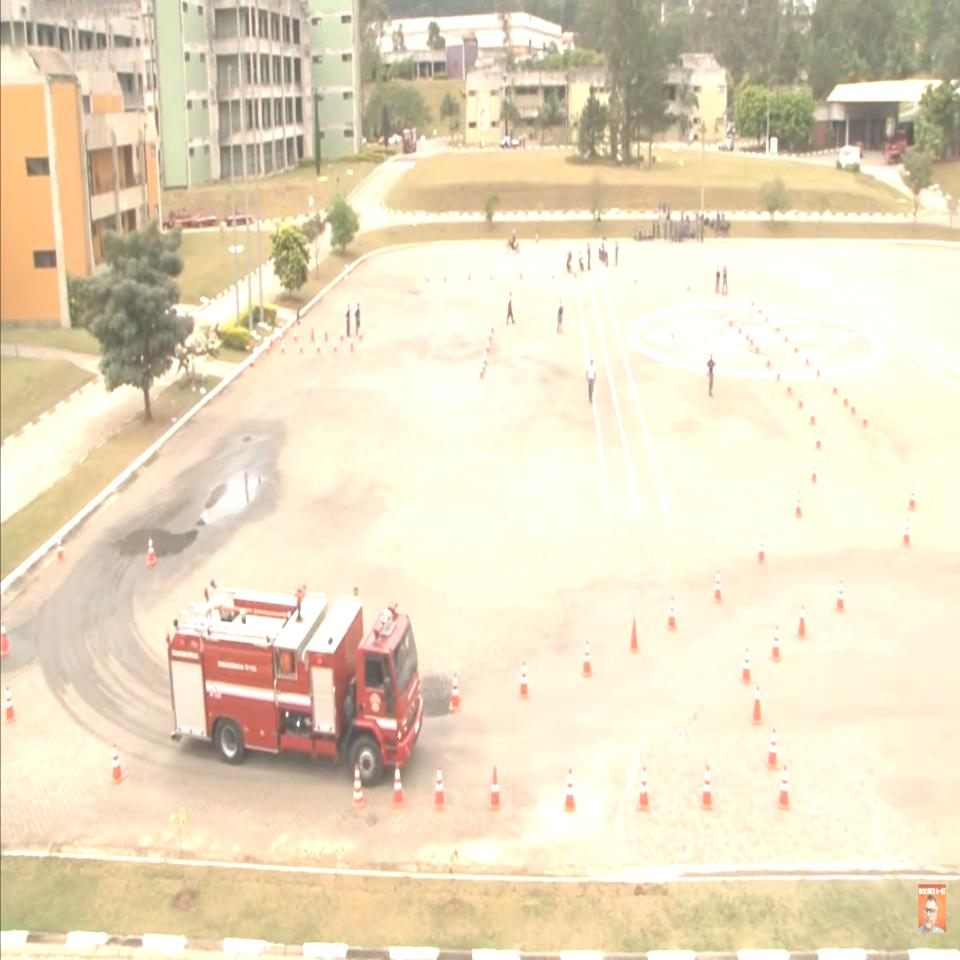bombeiro: (166, 580, 424, 784)
